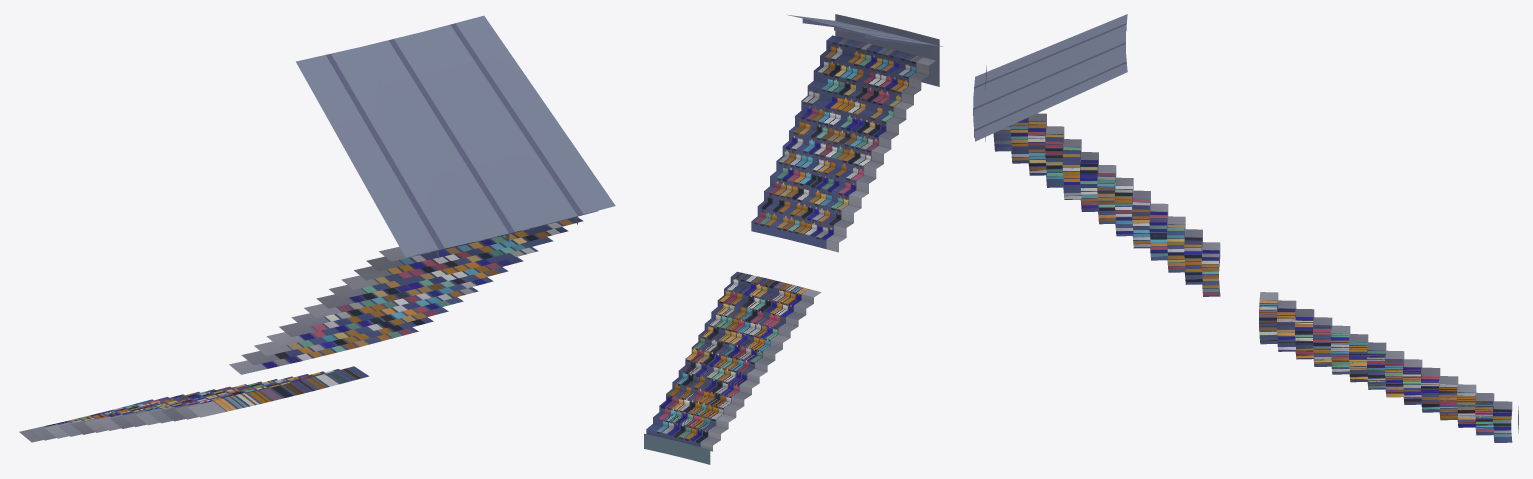
The model's file is venue-p.glb.
3 views of the same model, side by side, from view 1: azimuth 30°, elevation 25°; view 2: azimuth 150°, elevation 25°; view 3: azimuth 270°, elevation 25° (orthographic). The views are drawn at different scales.
Visible parts, largest first — view 1: wedge_lod0; view 2: wedge_lod0; view 3: wedge_lod0.
Part boxes in pixels (x1=…): wedge_lod0: x1=19, y1=15, x2=615, y2=442; wedge_lod0: x1=644, y1=14, x2=943, y2=464; wedge_lod0: x1=973, y1=14, x2=1518, y2=442.
Size of what is drawn, in the model's own units: 11.56 by 33.35 by 41.09.
Materials: 1 (1 with a texture image).
